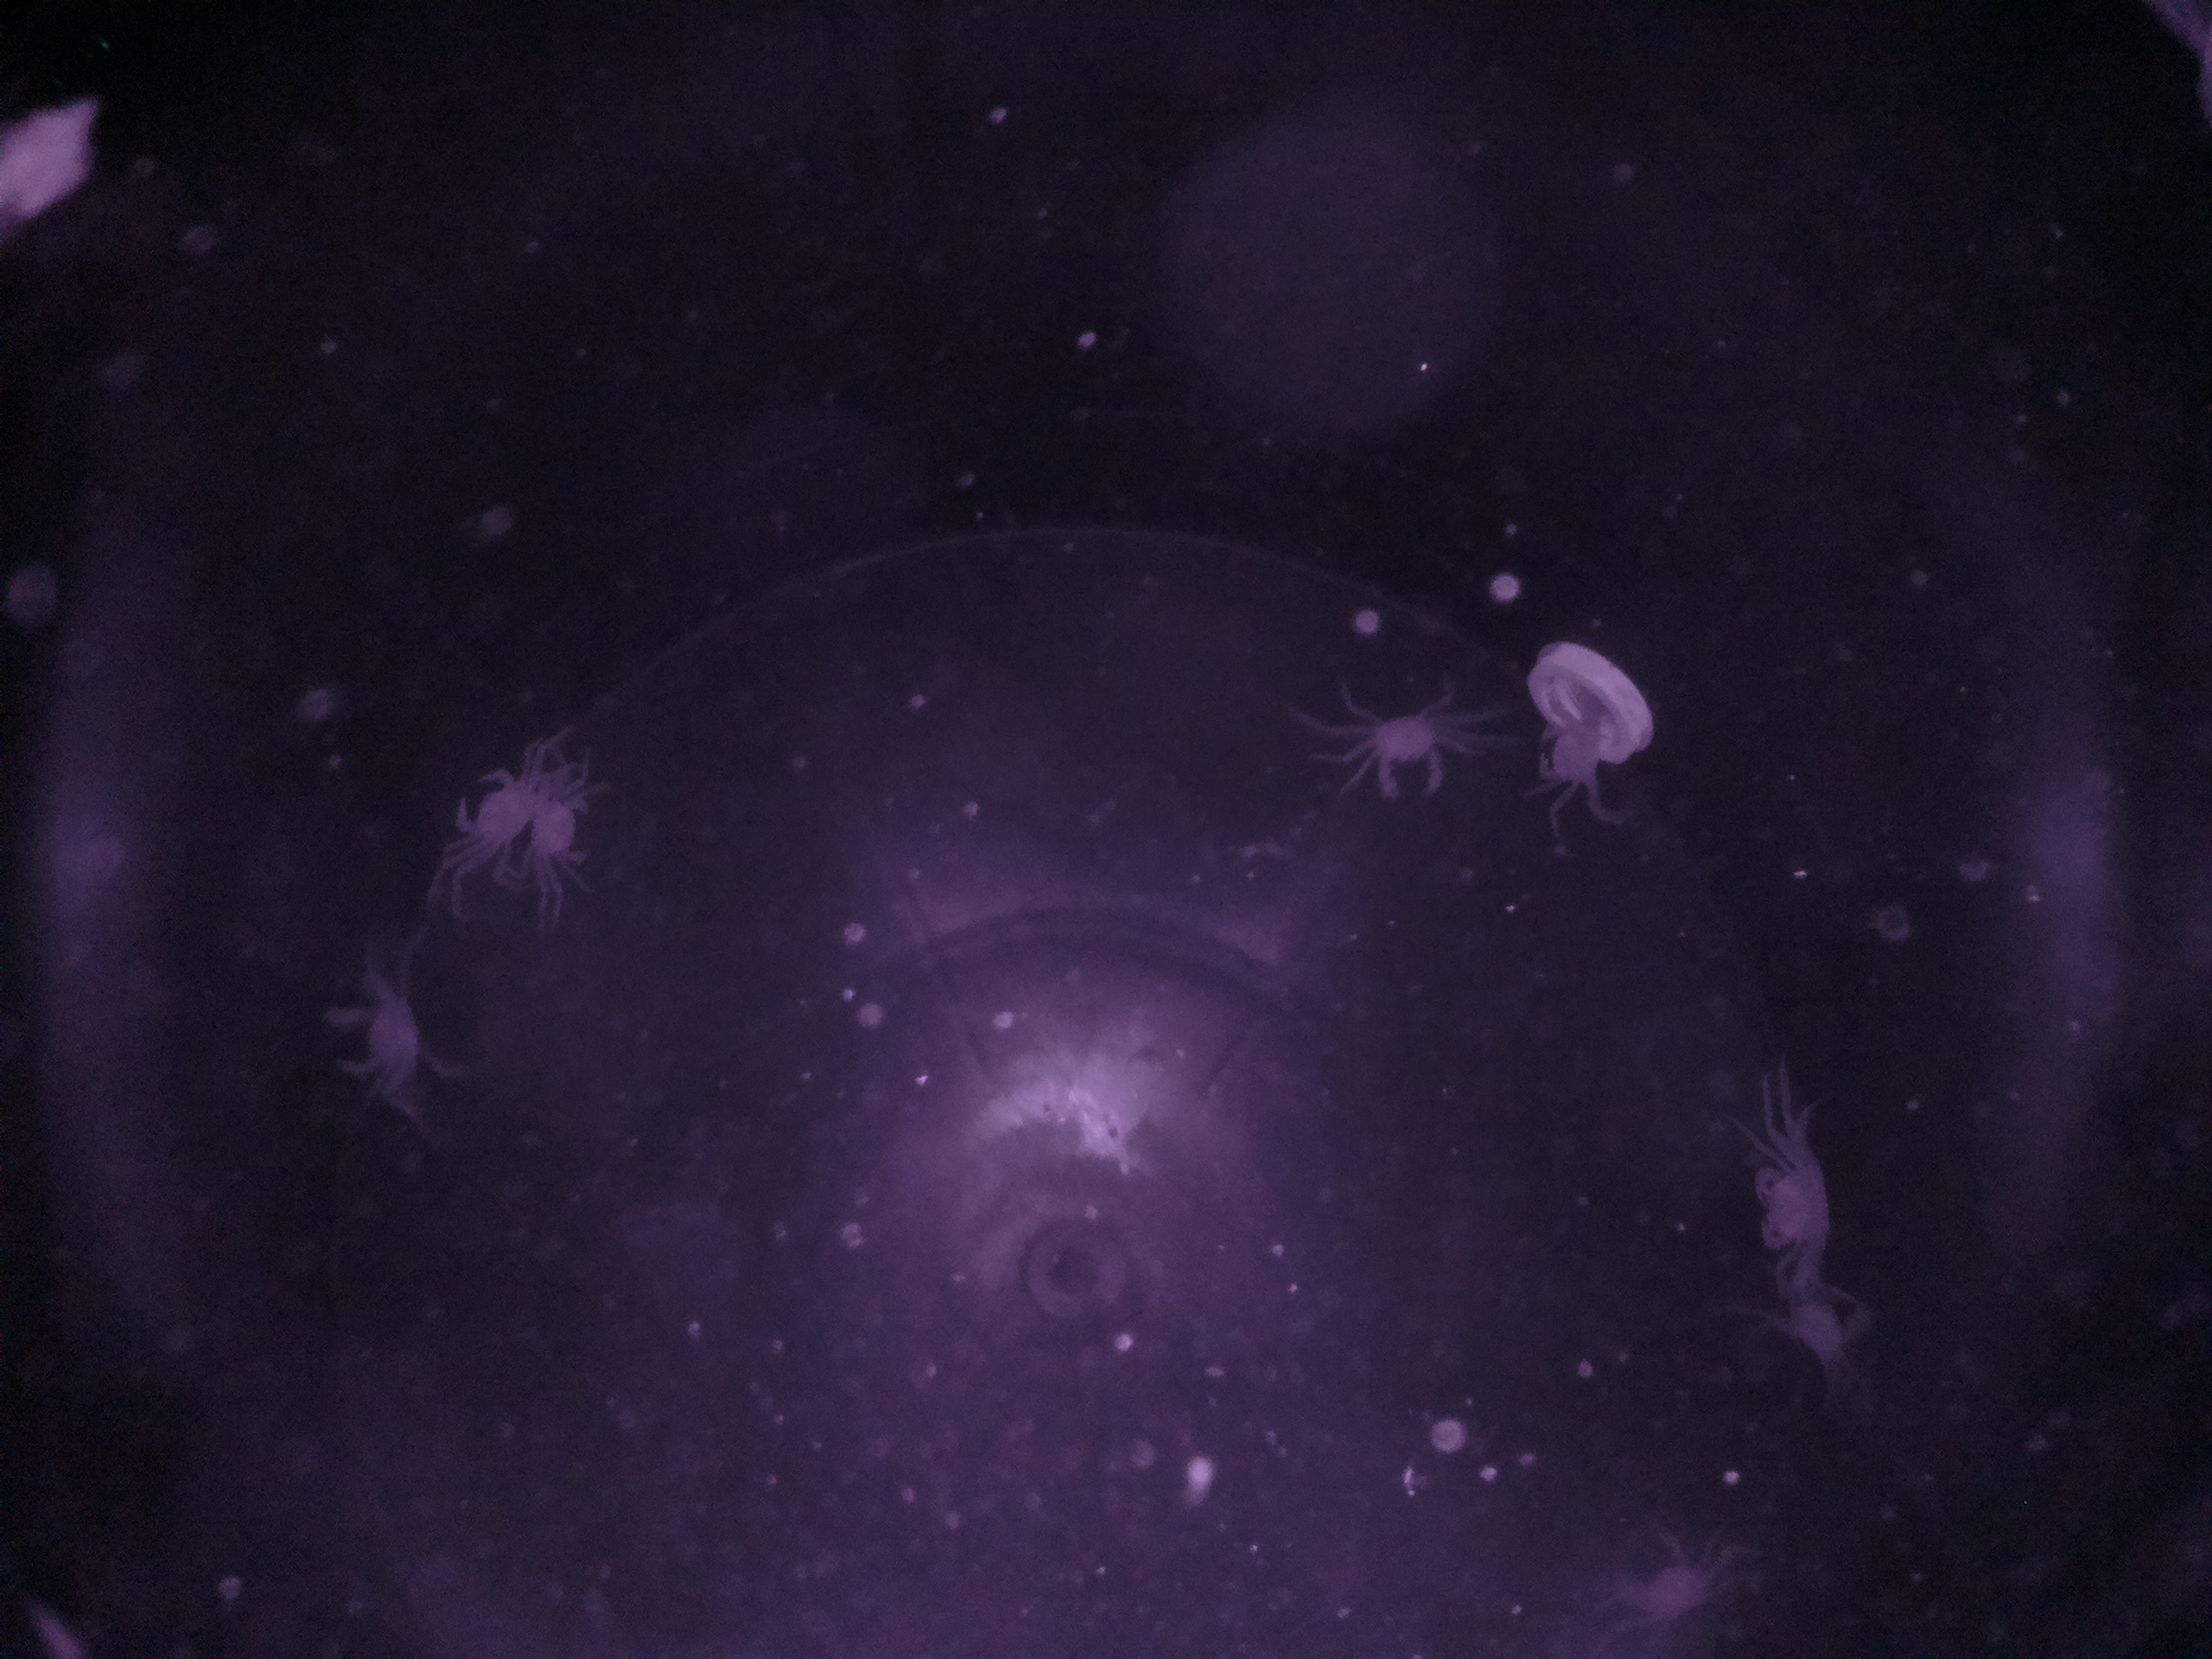Crab: (312, 967, 449, 1115), (1738, 1133, 1848, 1274), (1348, 695, 1454, 826), (437, 746, 545, 864), (1514, 701, 1629, 803)
